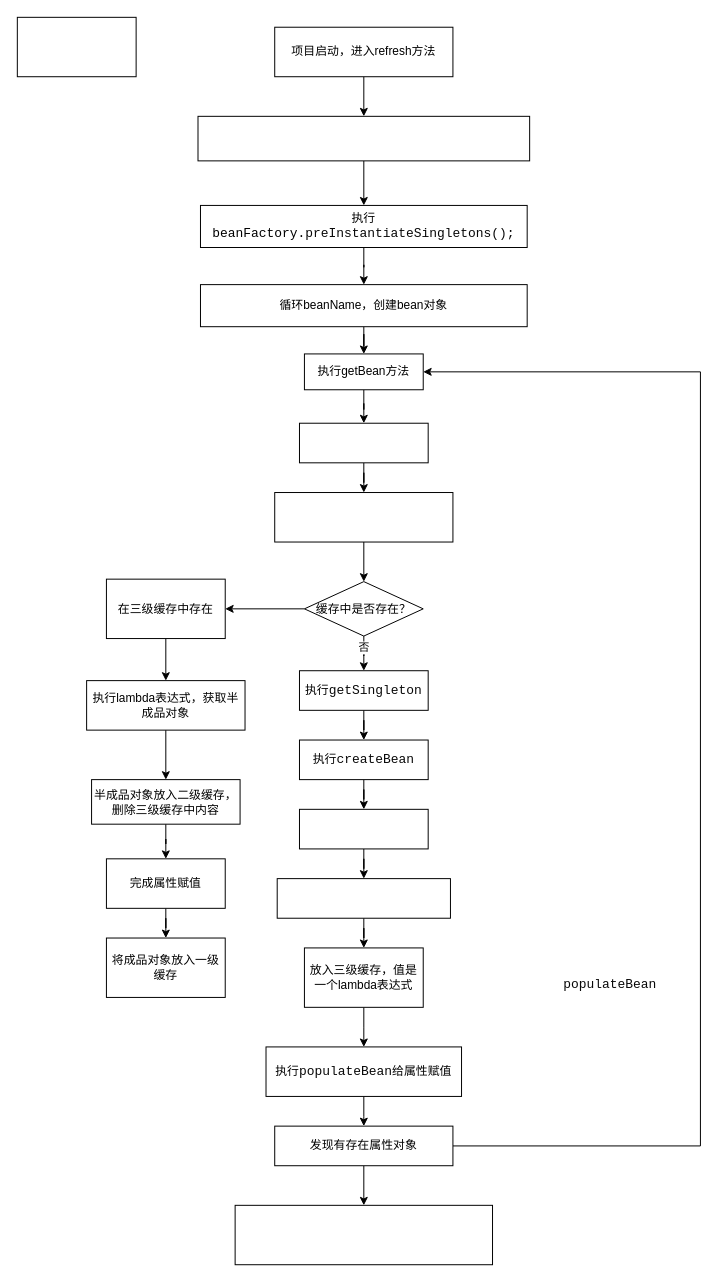
The diagram is 726 pixels wide and 1282 high, and some of its shapes have lost their labels. Each missing label, with the centre of its shape:
A b B a: the point at 76,46
一级缓存、 二级缓存、 三级缓存 顺序查找对象: the point at 363,517
完成属性赋值后，把自身对象放入一级缓存: the point at 363,1234
执行createBeanInstance通过反射实例化对象: the point at 363,898
执行do CreateBean: the point at 363,828
执行doGetBean方法: the point at 363,442
进入 finishBeanFactoryInitialization: the point at 363,138
